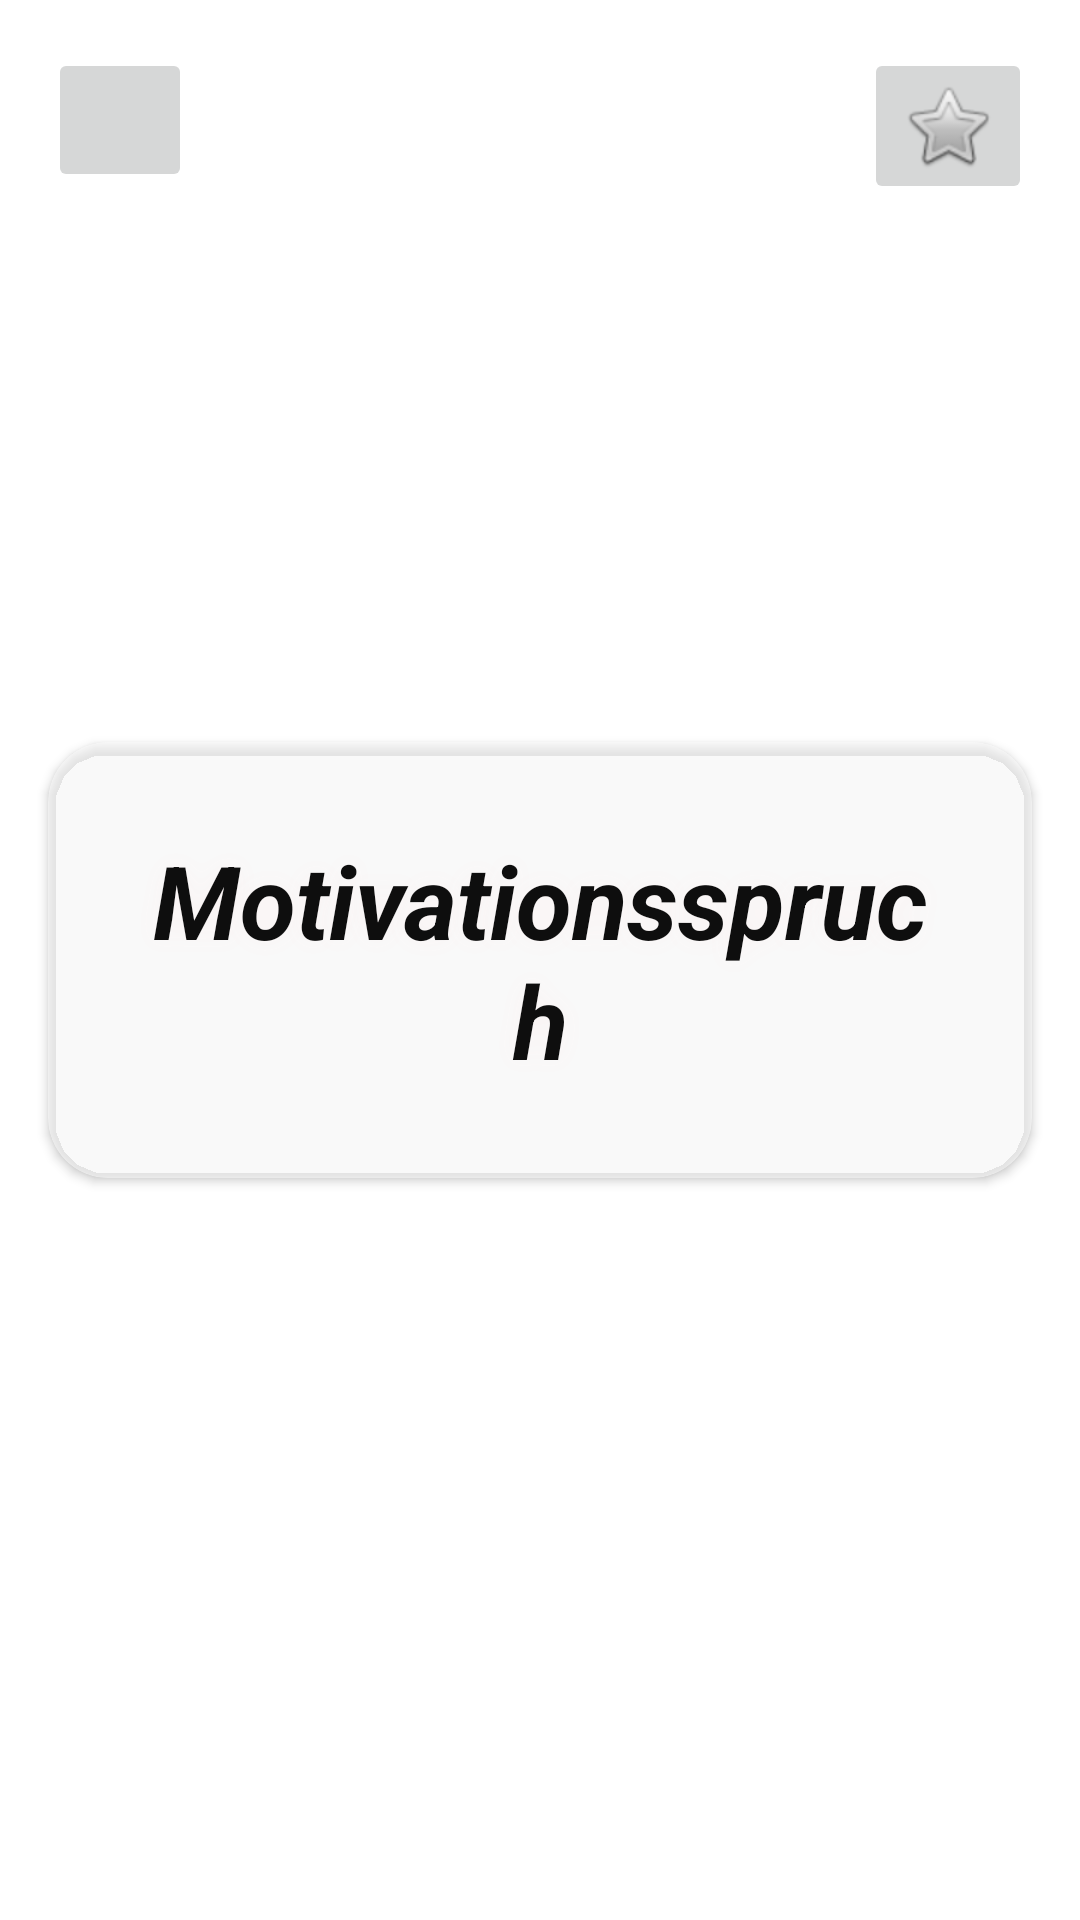

Icons on this 1080×1920 Android screen, each with its box as box=[x1, y1, x2, y2]:
star: box=[876, 66, 1020, 186]
